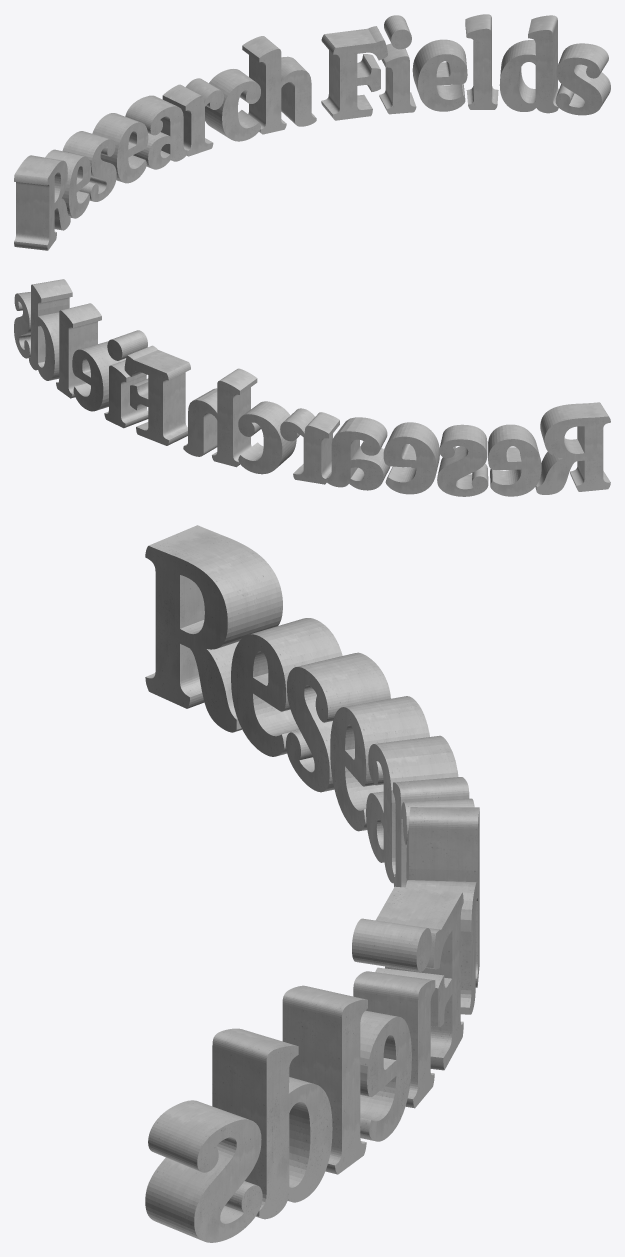
File: research_fields.glb
The picture shows the model from 3 angles, top to bottom: view 1: azimuth 30°, elevation 25°; view 2: azimuth 150°, elevation 25°; view 3: azimuth 270°, elevation 25°; orthographic projection. The views are drawn at different scales.
Visible parts, largest first — view 1: 3D Text 1 - e (×3), 3D Text 1 - s (×2), 3D Text 1 - h, 3D Text 1 - R, 3D Text 1 - F, 3D Text 1 - d, 3D Text 1 - a, 3D Text 1 - c, 3D Text 1 - i, 3D Text 1 - r, 3D Text 1 - l; view 2: 3D Text 1 - e (×3), 3D Text 1 - R, 3D Text 1 - F, 3D Text 1 - h, 3D Text 1 - s (×2), 3D Text 1 - a, 3D Text 1 - d, 3D Text 1 - r, 3D Text 1 - c, 3D Text 1 - i, 3D Text 1 - l; view 3: 3D Text 1 - e (×3), 3D Text 1 - s (×2), 3D Text 1 - R, 3D Text 1 - d, 3D Text 1 - l, 3D Text 1 - i, 3D Text 1 - h, 3D Text 1 - F, 3D Text 1 - a, 3D Text 1 - r.
Boxes of the visible parts, bbox=[...] form: 3D Text 1 - e (×3): bbox=[45, 39, 467, 218]; 3D Text 1 - s (×2): bbox=[62, 43, 610, 201]; 3D Text 1 - h: bbox=[242, 36, 316, 134]; 3D Text 1 - R: bbox=[14, 155, 70, 250]; 3D Text 1 - F: bbox=[321, 26, 387, 120]; 3D Text 1 - d: bbox=[499, 15, 558, 113]; 3D Text 1 - a: bbox=[125, 95, 187, 169]; 3D Text 1 - c: bbox=[205, 69, 260, 141]; 3D Text 1 - i: bbox=[379, 15, 416, 114]; 3D Text 1 - r: bbox=[162, 78, 223, 156]; 3D Text 1 - l: bbox=[465, 14, 498, 109]; 3D Text 1 - e (×3): bbox=[72, 341, 541, 496]; 3D Text 1 - R: bbox=[535, 402, 610, 494]; 3D Text 1 - F: bbox=[124, 345, 190, 445]; 3D Text 1 - h: bbox=[183, 368, 257, 467]; 3D Text 1 - s (×2): bbox=[14, 292, 488, 496]; 3D Text 1 - a: bbox=[326, 417, 390, 490]; 3D Text 1 - d: bbox=[29, 279, 72, 380]; 3D Text 1 - r: bbox=[280, 408, 339, 484]; 3D Text 1 - c: bbox=[238, 401, 296, 474]; 3D Text 1 - i: bbox=[104, 330, 148, 428]; 3D Text 1 - l: bbox=[56, 303, 101, 398]; 3D Text 1 - e (×3): bbox=[231, 618, 429, 1141]; 3D Text 1 - s (×2): bbox=[145, 652, 390, 1242]; 3D Text 1 - R: bbox=[145, 525, 282, 732]; 3D Text 1 - d: bbox=[212, 1028, 332, 1219]; 3D Text 1 - l: bbox=[282, 985, 367, 1174]; 3D Text 1 - i: bbox=[352, 918, 435, 1108]; 3D Text 1 - h: bbox=[405, 807, 479, 1014]; 3D Text 1 - F: bbox=[375, 886, 463, 1070]; 3D Text 1 - a: bbox=[366, 735, 458, 883]; 3D Text 1 - r: bbox=[393, 777, 474, 887].
Bounding box in the file's own units: 0.2991 × 0.0408 × 0.0726.
1 material, 1 textured.
